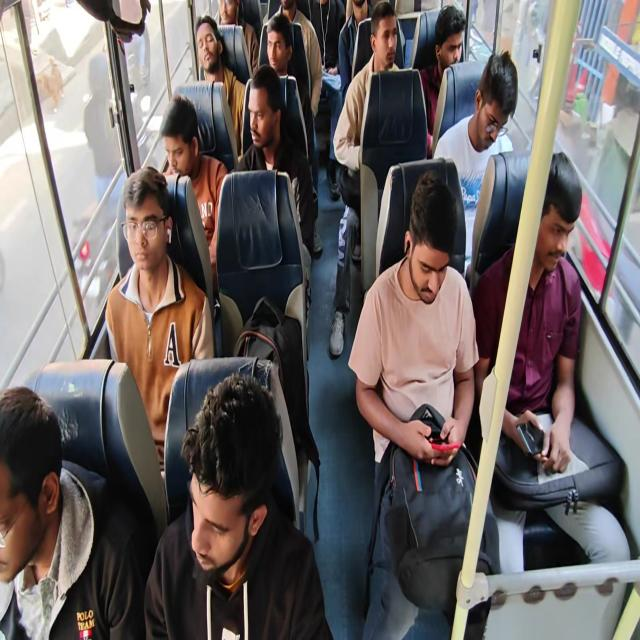person: (158, 388, 264, 622), (0, 372, 84, 639), (391, 171, 494, 385), (118, 157, 192, 339), (129, 85, 228, 197), (518, 156, 582, 311), (251, 80, 302, 172), (475, 46, 517, 150), (435, 0, 488, 79), (264, 16, 312, 94), (210, 0, 260, 71), (197, 15, 235, 88), (307, 0, 344, 72), (371, 7, 403, 79), (274, 0, 306, 25), (344, 0, 374, 26)
